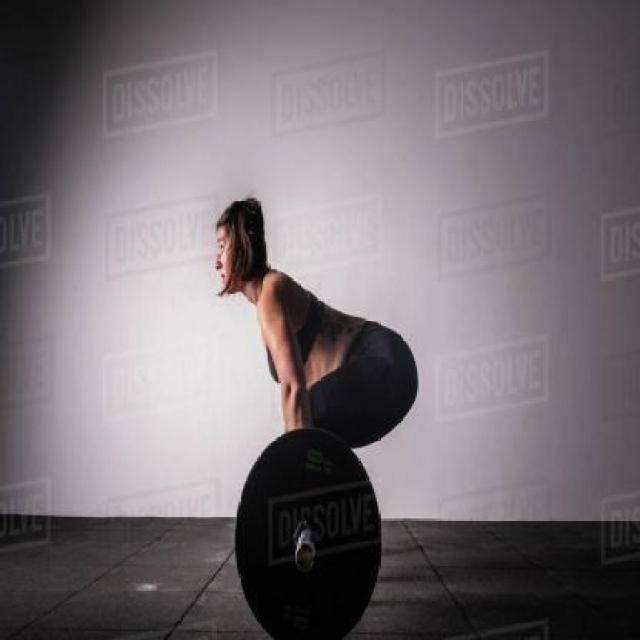barbell: (230, 422, 388, 640)
